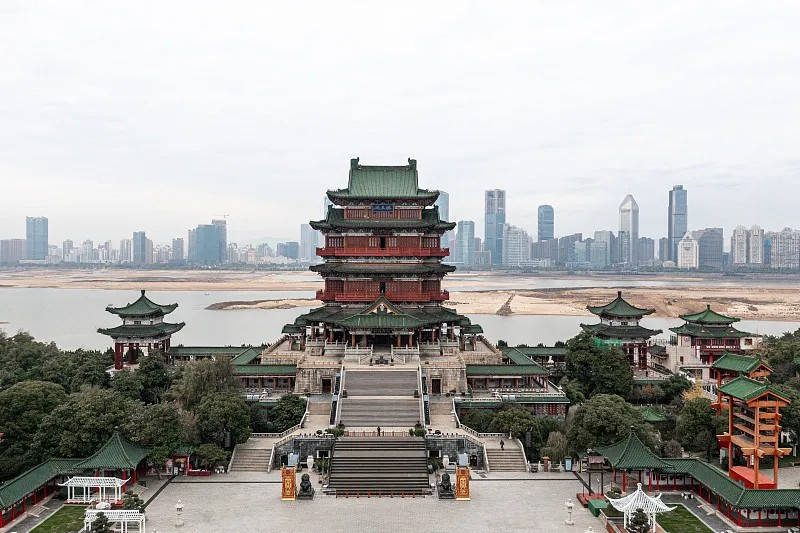Teng: (282, 156, 483, 354)
